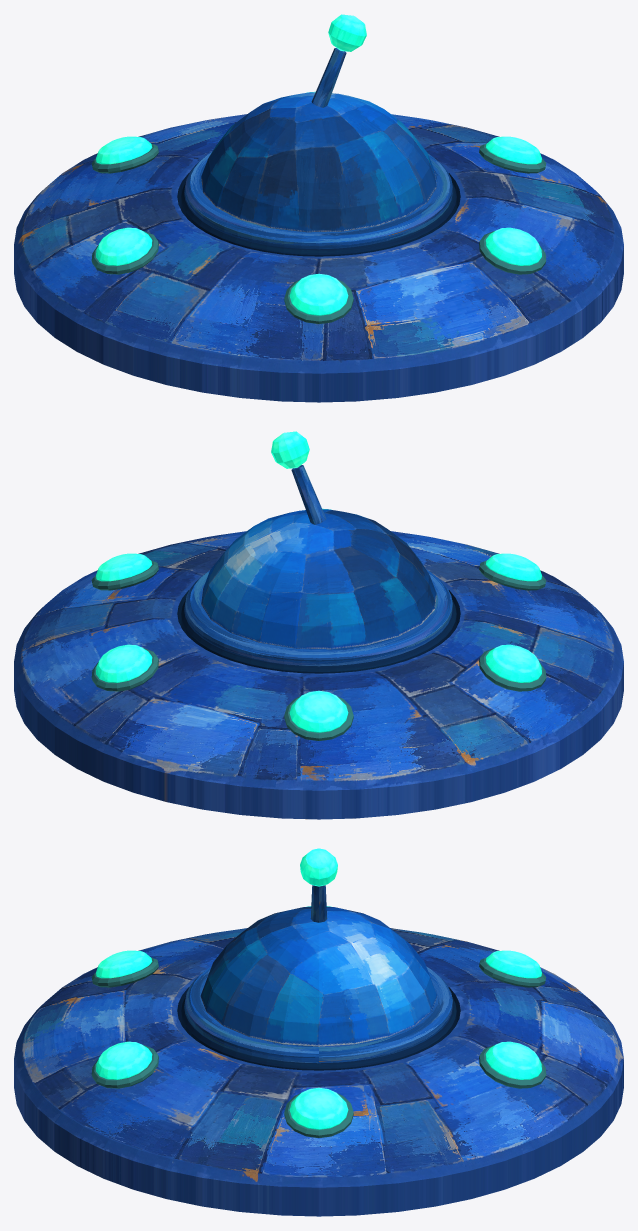
The model's file is ufo-modular.glb.
3 views of the same model, one above another, from view 1: azimuth 30°, elevation 25°; view 2: azimuth 150°, elevation 25°; view 3: azimuth 270°, elevation 25° (orthographic).
Visible parts, largest first — view 1: Outer_Ring, Dome, Dome_Collar, Bearing, Rim_Lens_03, Rim_Lens_02, Rim_Lens_04, Rim_Lens_01, Rim_Lens_05, Antenna_Tip, Antenna_Stem, Rim_Bezel_03 (+4 smaller); view 2: Outer_Ring, Dome, Dome_Collar, Bearing, Rim_Lens_05, Rim_Lens_04, Rim_Lens_06, Rim_Lens_01, Rim_Lens_03, Antenna_Tip, Antenna_Stem, Rim_Bezel_05 (+4 smaller); view 3: Outer_Ring, Dome, Dome_Collar, Bearing, Rim_Lens_01, Rim_Lens_02, Rim_Lens_06, Antenna_Tip, Rim_Lens_03, Rim_Lens_05, Rim_Bezel_01, Rim_Bezel_02 (+4 smaller).
Part boxes in pixels (x1,y1,x2,y2): Outer_Ring: (14,114,623,402); Dome: (201,92,436,232); Dome_Collar: (185,152,452,249); Bearing: (181,182,456,256); Rim_Lens_03: (289,273,348,315); Rim_Lens_02: (485,227,541,265); Rim_Lens_04: (96,227,152,265); Rim_Lens_01: (485,136,541,164); Rim_Lens_05: (96,136,152,164); Antenna_Tip: (328,14,366,51); Antenna_Stem: (311,48,346,107); Rim_Bezel_03: (284,279,353,323); Outer_Ring: (14,531,623,819); Dome: (201,509,436,649); Dome_Collar: (185,569,452,666); Bearing: (181,599,456,673); Rim_Lens_05: (289,690,348,732); Rim_Lens_04: (485,644,541,682); Rim_Lens_06: (96,644,152,682); Rim_Lens_01: (96,553,152,581); Rim_Lens_03: (485,553,541,581); Antenna_Tip: (271,431,309,468); Antenna_Stem: (291,465,326,524); Rim_Bezel_05: (284,696,353,740); Outer_Ring: (14,928,623,1216); Dome: (200,906,437,1046); Dome_Collar: (185,966,452,1063); Bearing: (181,996,456,1070); Rim_Lens_01: (289,1087,348,1129); Rim_Lens_02: (96,1041,152,1079); Rim_Lens_06: (485,1041,541,1079); Antenna_Tip: (300,848,337,886); Rim_Lens_03: (96,950,152,978); Rim_Lens_05: (485,950,541,978); Rim_Bezel_01: (284,1093,353,1137); Rim_Bezel_02: (91,1045,158,1088).
Bounding box in the file's own units: 2.6 × 1.4 × 2.6.
8 materials, 7 textured.
